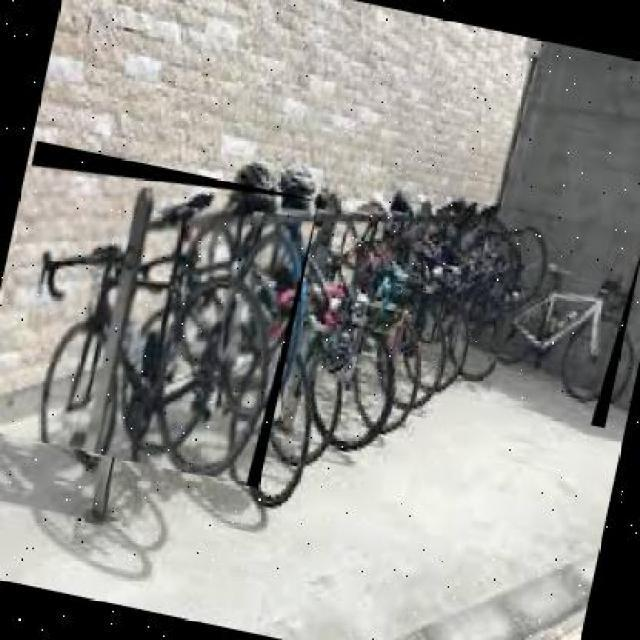bicycle: (1, 141, 321, 492), (486, 212, 640, 432)
